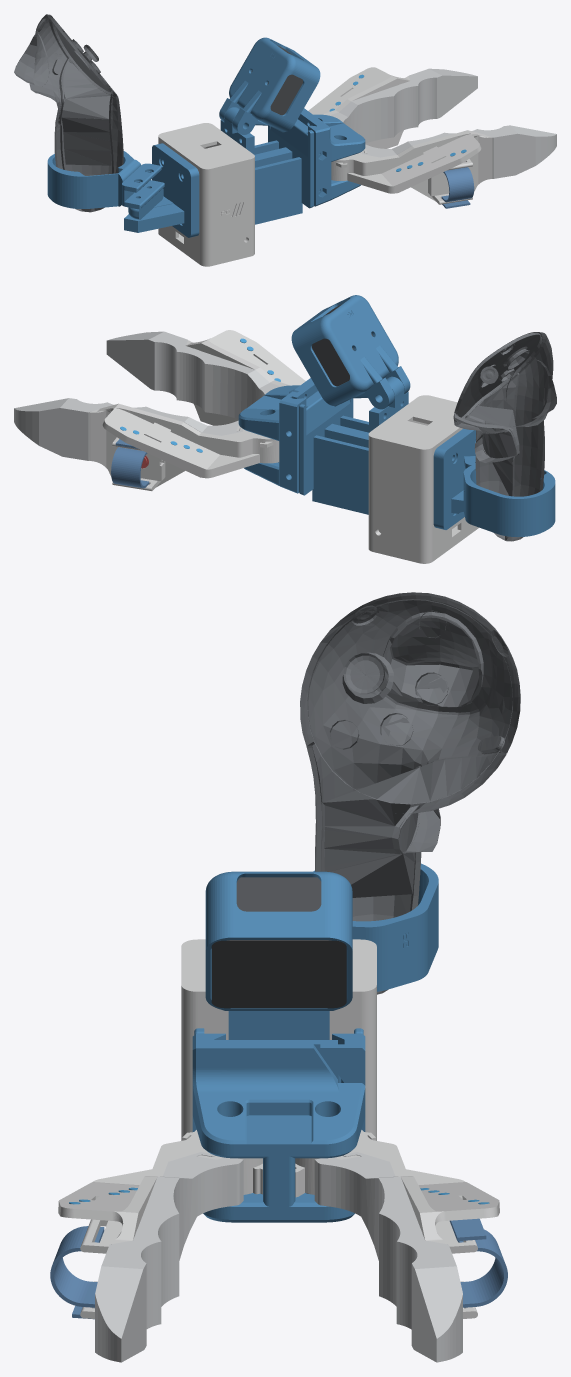
File: chop-umi_left.glb
3 renders of one model, top to bottom at view 1: azimuth 30°, elevation 25°; view 2: azimuth 150°, elevation 25°; view 3: azimuth 270°, elevation 25°, orthographic. The views are drawn at different scales.
Visible parts, largest first — view 1: quest_controller_envelope_left, ebox, jaw_right_dc, d405_frame, tip_tpu_left, d405_cup, quest_support_left, quest_arm_left, tip_tpu_right, chopstick_base_dc, jaw_left_dc_button, sleeve_strap_right (+2 smaller); view 2: quest_controller_envelope_left, ebox, jaw_left_dc_button, d405_frame, tip_tpu_right, d405_cup, tip_tpu_left, quest_support_left, quest_arm_left, jaw_right_dc, chopstick_base_dc, chopstick_clip_dc (+3 smaller); view 3: quest_controller_envelope_left, chopstick_base_dc, tip_tpu_right, tip_tpu_left, d405_envelope, d405_cup, ebox, jaw_right_dc, jaw_left_dc_button, quest_support_left, d405_frame, sleeve_strap_left (+2 smaller).
Boxes of the visible parts, x1,y1,x2,y2 form: quest_controller_envelope_left: (14,14,123,212); ebox: (158,123,254,263); jaw_right_dc: (331,130,492,204); d405_frame: (220,107,313,224); tip_tpu_left: (330,68,477,143); d405_cup: (219,37,320,134); quest_support_left: (47,151,164,209); quest_arm_left: (124,143,199,237); tip_tpu_right: (361,125,556,178); chopstick_base_dc: (298,108,365,206); jaw_left_dc_button: (308,67,410,148); sleeve_strap_right: (441,167,474,208); quest_controller_envelope_left: (453,332,556,541); ebox: (368,395,475,560); jaw_left_dc_button: (89,403,279,491); d405_frame: (299,376,408,514); tip_tpu_right: (106,331,280,419); d405_cup: (291,295,410,409); tip_tpu_left: (14,398,243,460); quest_support_left: (463,456,555,537); quest_arm_left: (433,428,475,529); jaw_right_dc: (186,330,305,425); chopstick_base_dc: (238,378,317,485); chopstick_clip_dc: (279,391,306,493); quest_controller_envelope_left: (300,592,520,994); chopstick_base_dc: (192,1033,365,1222); tip_tpu_right: (95,1152,243,1362); tip_tpu_left: (314,1152,462,1362); d405_envelope: (211,877,346,1008); d405_cup: (205,871,352,1010); ebox: (181,939,376,1140); jaw_right_dc: (58,1130,262,1318); jaw_left_dc_button: (295,1130,499,1318); quest_support_left: (313,863,438,991); d405_frame: (194,1011,363,1082); sleeve_strap_left: (449,1218,507,1307).
Size of the model in its own units: 0.3267 by 0.1528 by 0.1444.
